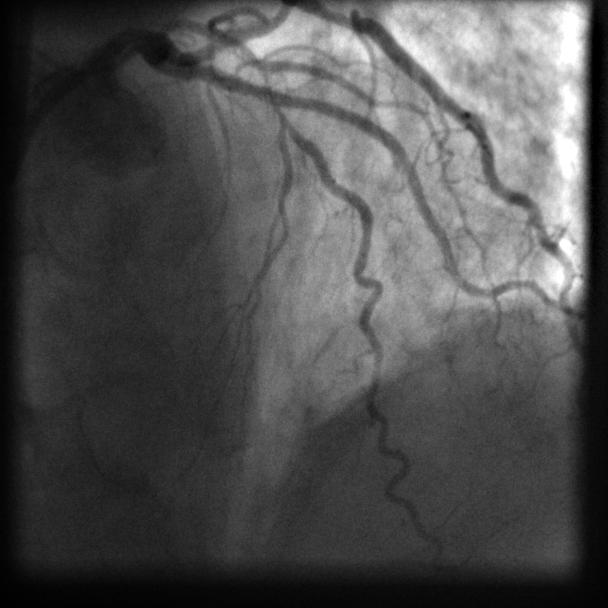Stenosis: (258, 59, 280, 117)
